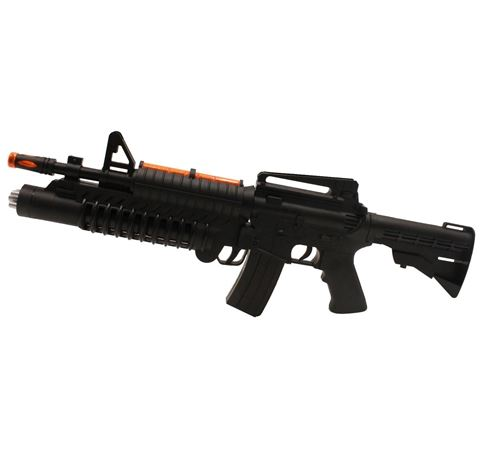Arma Falsa: (7, 138, 472, 318)
